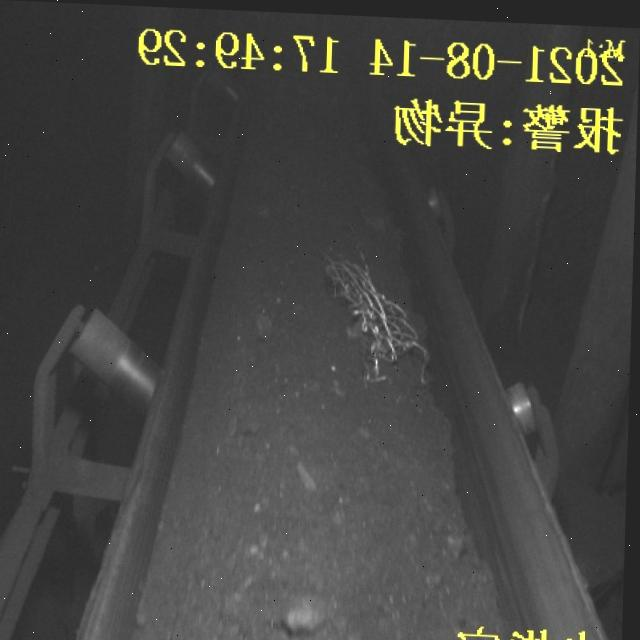Other_garbage: (316, 256, 438, 382)
